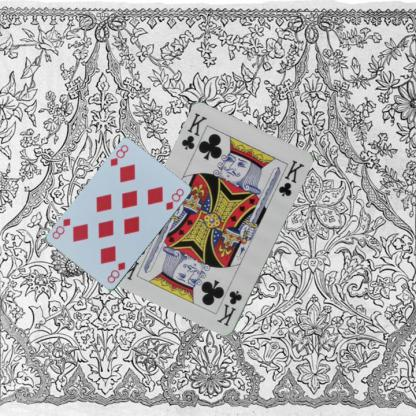8d: (104, 259, 127, 285), (107, 142, 130, 168)
Kc: (178, 110, 209, 152), (214, 288, 243, 328)
